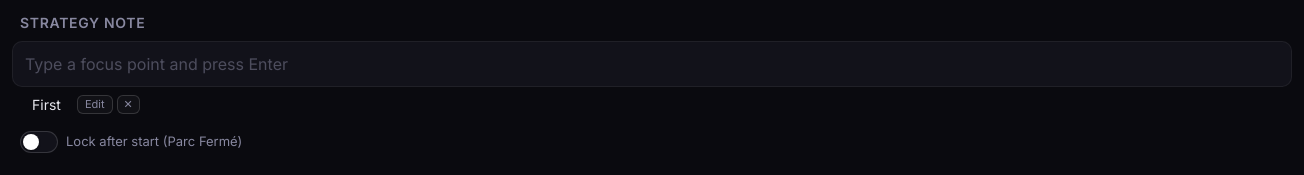
Scenario: StrategyNote › cancels editing without changing the note
The width and height of the screenshot is (1304, 175).
Click the button with aria-label "Edit strategy note": (95,105) [77,95,112,114]
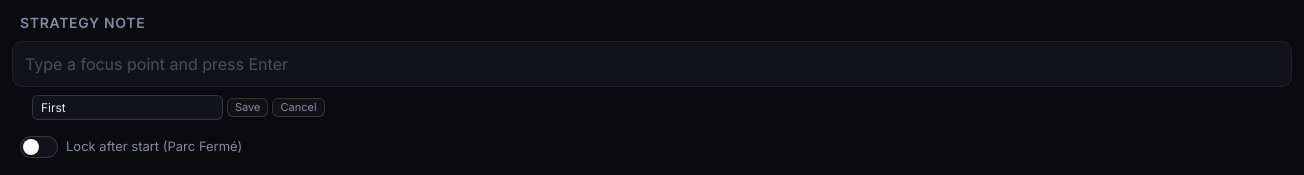
Replace the text in the field named "Edit strategy note text" with "changed": (128,108) [32,95,223,120]
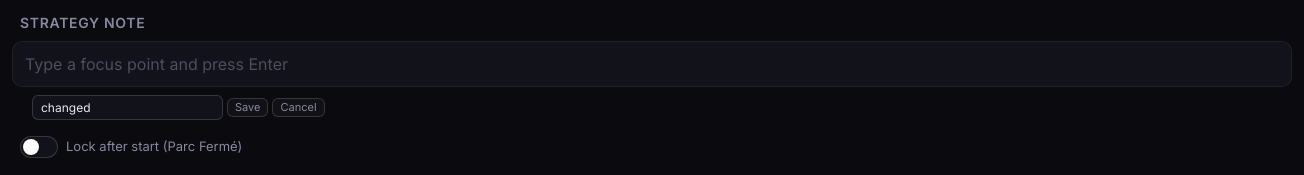
Click the button with aria-label "Cancel editing strategy note": (299,108) [272,98,325,117]
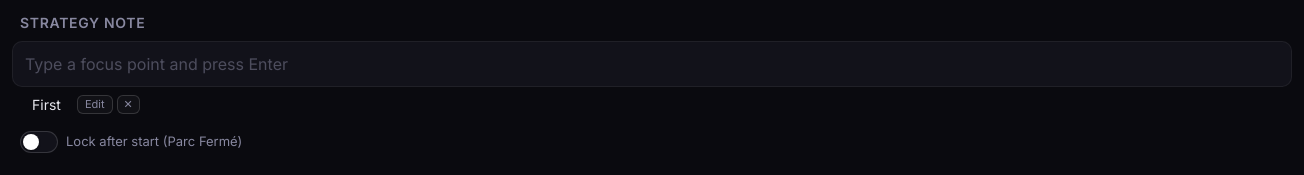
Expected: the text "First" is shown, [32,95,61,115]
